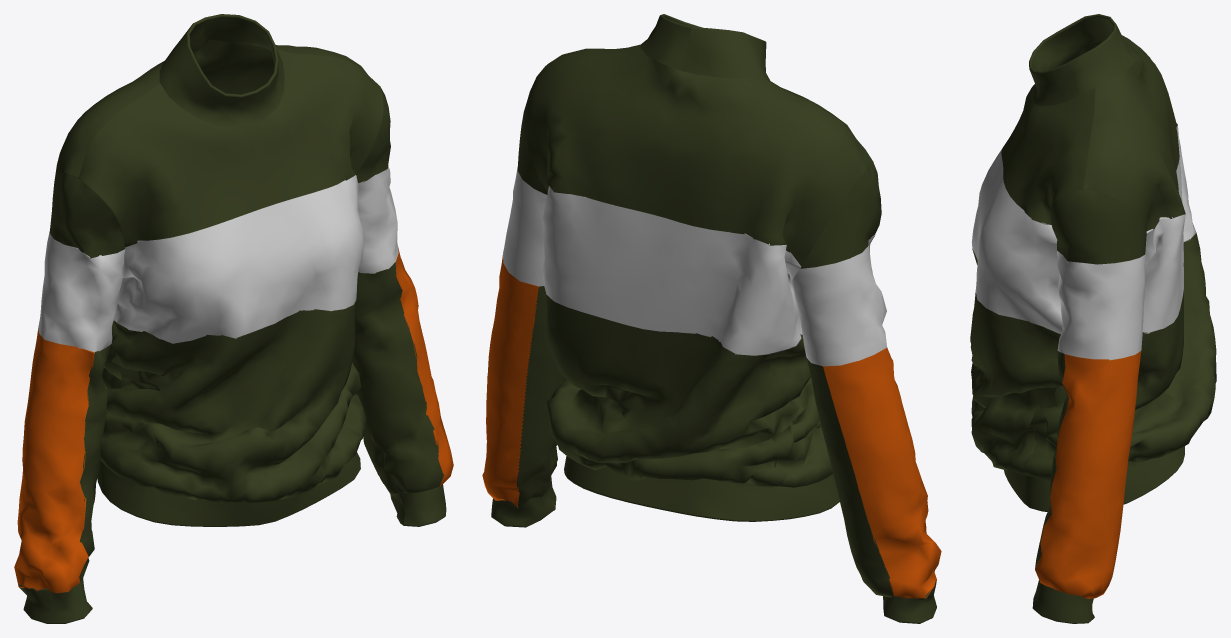
3 views of the same model, side by side, from view 1: azimuth 30°, elevation 25°; view 2: azimuth 150°, elevation 25°; view 3: azimuth 270°, elevation 25° (orthographic). The views are drawn at different scales.
Visible parts, largest first — view 1: Pattern2D_3692580, Pattern2D_3627920, Pattern2D_3628178, Pattern2D_3648941, Pattern2D_3741299, Pattern2D_3739184, Pattern2D_3637876, Pattern2D_3634939, Pattern2D_3817910, Pattern2D_3630701, Pattern2D_3638224, Pattern2D_3648891 (+6 smaller); view 2: Pattern2D_3634939, Pattern2D_3692761, Pattern2D_3635177, Pattern2D_3648941, Pattern2D_3817910, Pattern2D_3741476, Pattern2D_3637876, Pattern2D_3739184, Pattern2D_3741463, Pattern2D_3648309, Pattern2D_3630701, Pattern2D_3638224 (+4 smaller); view 3: Pattern2D_3741476, Pattern2D_3692761, Pattern2D_3634939, Pattern2D_3692580, Pattern2D_3628178, Pattern2D_3627920, Pattern2D_3638224, Pattern2D_3739184, Pattern2D_3631058, Pattern2D_3635177, Pattern2D_3817910, Pattern2D_3742323 (+1 smaller).
Boxes of the visible parts, left/top/right/bottom form: Pattern2D_3692580: left=100, top=300, right=362, bottom=504; Pattern2D_3627920: left=78, top=49, right=383, bottom=247; Pattern2D_3628178: left=117, top=175, right=363, bottom=343; Pattern2D_3648941: left=14, top=328, right=94, bottom=593; Pattern2D_3741299: left=353, top=262, right=444, bottom=493; Pattern2D_3739184: left=159, top=14, right=284, bottom=127; Pattern2D_3637876: left=38, top=230, right=125, bottom=353; Pattern2D_3634939: left=54, top=39, right=373, bottom=181; Pattern2D_3817910: left=97, top=452, right=360, bottom=526; Pattern2D_3630701: left=49, top=172, right=124, bottom=258; Pattern2D_3638224: left=358, top=166, right=398, bottom=273; Pattern2D_3648891: left=79, top=344, right=111, bottom=582; Pattern2D_3634939: left=524, top=44, right=868, bottom=266; Pattern2D_3692761: left=544, top=287, right=810, bottom=486; Pattern2D_3635177: left=542, top=186, right=802, bottom=355; Pattern2D_3648941: left=823, top=347, right=941, bottom=598; Pattern2D_3817910: left=564, top=456, right=839, bottom=521; Pattern2D_3741476: left=482, top=255, right=538, bottom=507; Pattern2D_3637876: left=791, top=234, right=886, bottom=366; Pattern2D_3739184: left=640, top=14, right=770, bottom=80; Pattern2D_3741463: left=516, top=286, right=564, bottom=507; Pattern2D_3648309: left=806, top=358, right=895, bottom=597; Pattern2D_3630701: left=800, top=161, right=881, bottom=268; Pattern2D_3638224: left=503, top=166, right=547, bottom=286; Pattern2D_3741476: left=1035, top=351, right=1141, bottom=598; Pattern2D_3692761: left=1022, top=232, right=1216, bottom=479; Pattern2D_3634939: left=1081, top=35, right=1185, bottom=240; Pattern2D_3692580: left=970, top=248, right=1062, bottom=476; Pattern2D_3628178: left=971, top=149, right=1062, bottom=333; Pattern2D_3627920: left=1001, top=45, right=1095, bottom=225; Pattern2D_3638224: left=1057, top=250, right=1145, bottom=360; Pattern2D_3739184: left=1029, top=14, right=1135, bottom=106; Pattern2D_3631058: left=1050, top=189, right=1145, bottom=264; Pattern2D_3635177: left=1142, top=124, right=1196, bottom=333; Pattern2D_3817910: left=1004, top=446, right=1184, bottom=511; Pattern2D_3742323: left=1032, top=580, right=1094, bottom=623.
Size of the model in its own units: 56.46 by 67.79 by 29.64.
